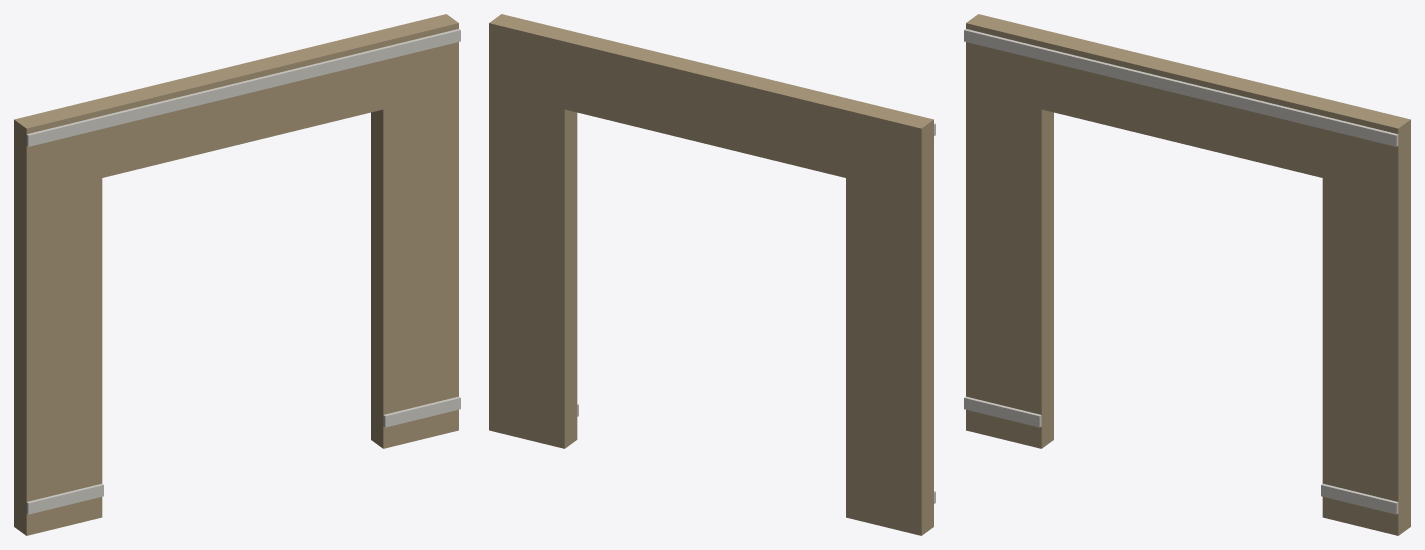
Rendered from OAA_Warehouse_Wall_Door_4m.fbx.
3 views of the same model, side by side, from view 1: azimuth 30°, elevation 25°; view 2: azimuth 150°, elevation 25°; view 3: azimuth 330°, elevation 25° (orthographic).
Parts seen in each view (by area): view 1: Body; view 2: Body; view 3: Body.
Part boxes in pixels (x1,y1,x2,y2): Body: (14,14,460,535); Body: (489,14,935,535); Body: (964,14,1410,535).
Size of the model in its own units: 4 by 3.6 by 0.23.
